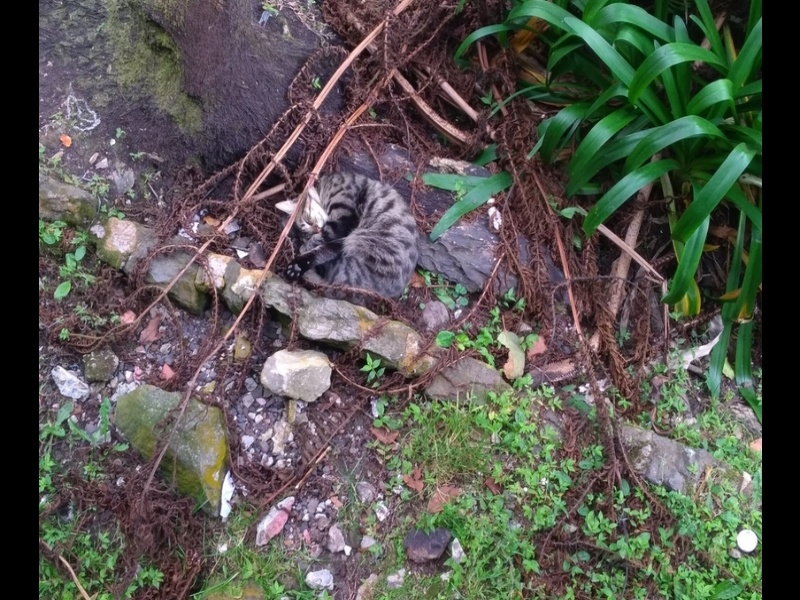cat: (273, 167, 421, 307)
